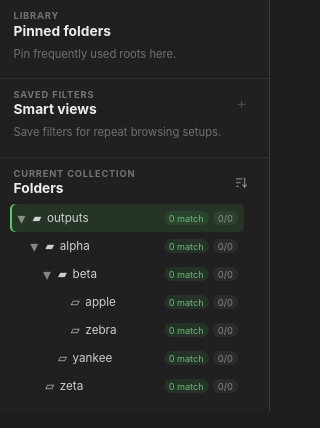
LibrarySidebar › applies the selected name order to every expanded folder depth
Click the button named "Folders sorted A to Z; switch to Z to A" at (241,182), box [227,168,255,196]
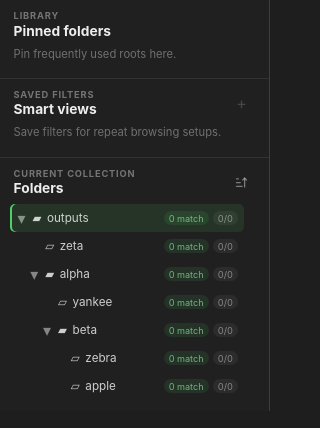
Now the button named "Folders sorted Z to A; switch to A to Z" is shown, box [227,168,255,196]
